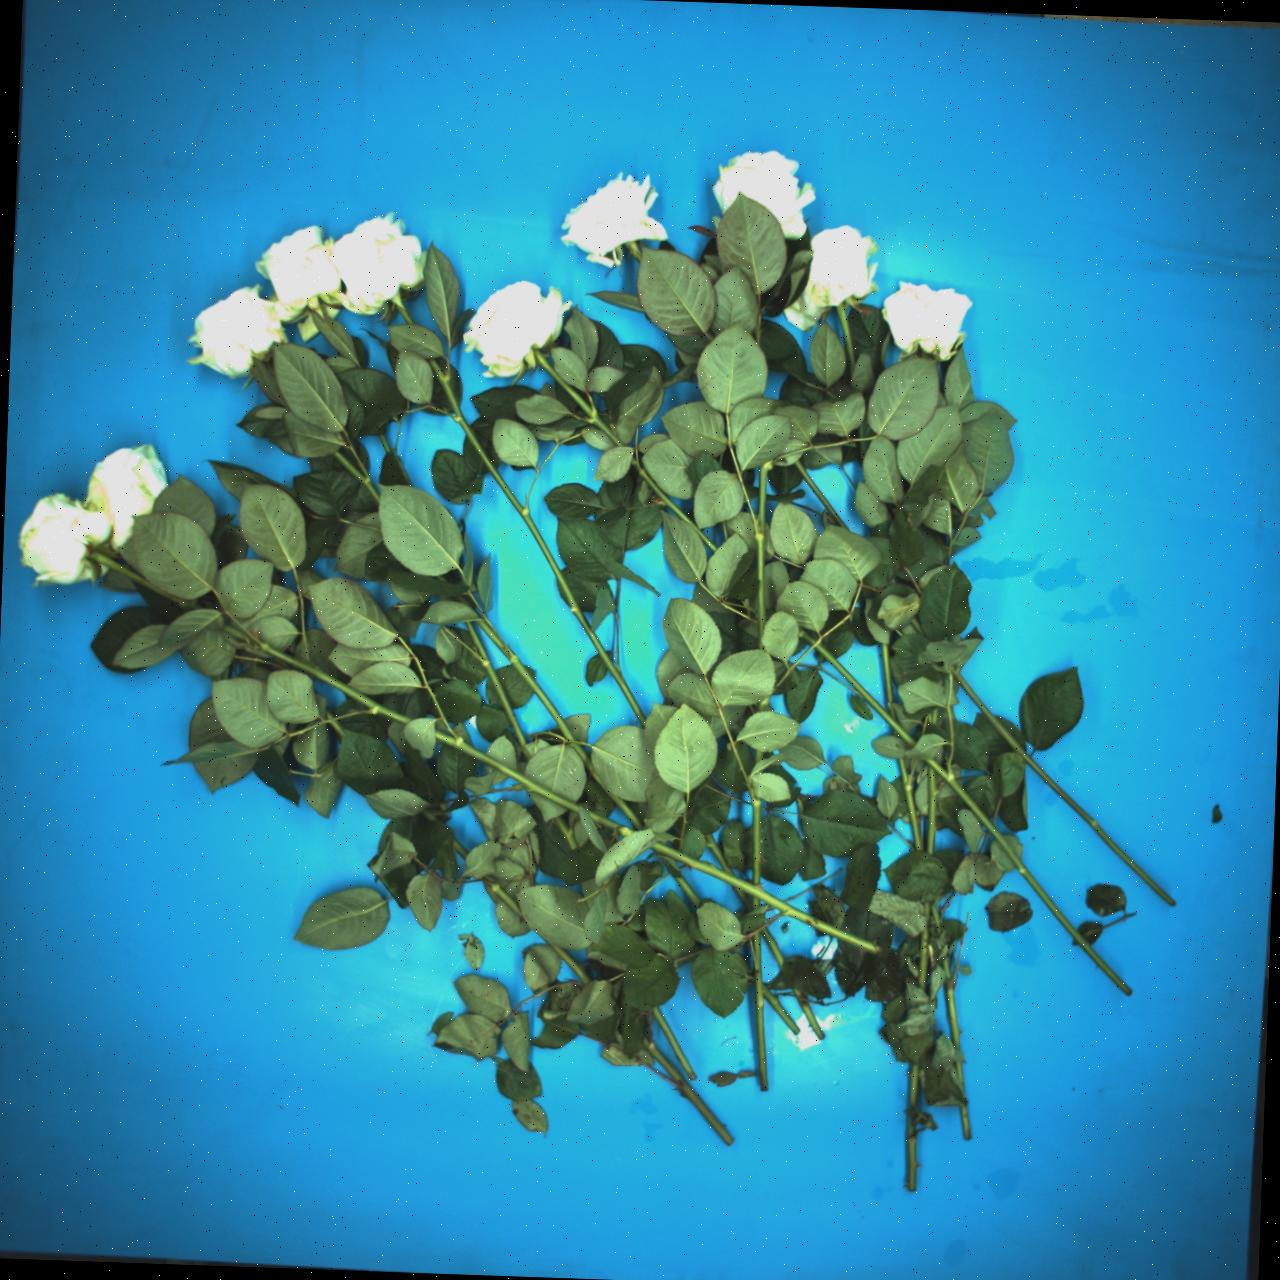Stem: (421, 356, 655, 729), (948, 670, 1176, 912), (921, 751, 1133, 1000), (649, 833, 878, 960), (220, 620, 415, 730), (474, 614, 580, 744), (433, 727, 581, 815), (815, 642, 917, 747), (644, 1041, 735, 1150), (532, 350, 626, 452), (627, 457, 717, 553), (462, 619, 529, 747), (564, 735, 646, 832), (94, 551, 183, 607), (792, 459, 850, 535), (651, 1007, 697, 1082), (328, 448, 388, 504), (751, 461, 769, 651), (751, 933, 768, 1091), (756, 982, 801, 1036), (898, 757, 922, 852), (546, 935, 591, 987), (791, 985, 825, 1042), (940, 956, 960, 1051), (835, 306, 859, 379), (581, 806, 634, 839), (490, 881, 530, 921), (921, 765, 939, 856), (703, 832, 735, 879), (758, 926, 788, 969), (880, 642, 896, 721), (550, 813, 580, 851), (673, 873, 702, 907), (917, 926, 930, 993), (751, 795, 761, 884), (731, 881, 755, 912), (322, 709, 347, 737), (753, 933, 762, 1000), (907, 1136, 918, 1191), (394, 300, 415, 327), (448, 837, 470, 859), (958, 1105, 972, 1141), (625, 240, 645, 265), (908, 1063, 919, 1107), (930, 904, 944, 935), (454, 592, 474, 613), (908, 617, 926, 638), (797, 629, 816, 646), (734, 951, 750, 969), (377, 433, 392, 452), (955, 1061, 962, 1085), (907, 1117, 915, 1136), (754, 750, 763, 765), (922, 901, 930, 919), (750, 897, 760, 908), (892, 728, 898, 737)
flower: (448, 258, 579, 392), (546, 161, 680, 284), (171, 272, 295, 396), (779, 215, 894, 348), (314, 203, 440, 324), (63, 425, 183, 550), (704, 135, 826, 243), (248, 219, 355, 326), (13, 490, 114, 592), (874, 274, 974, 365)
